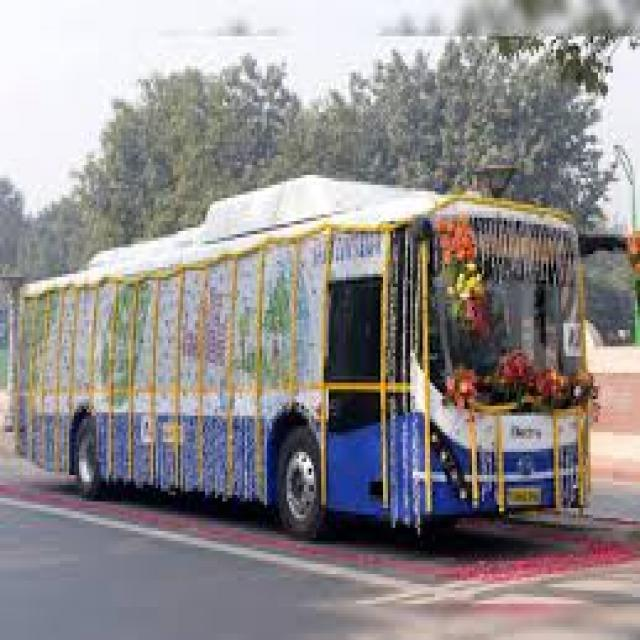BUS: (5, 129, 635, 551)
